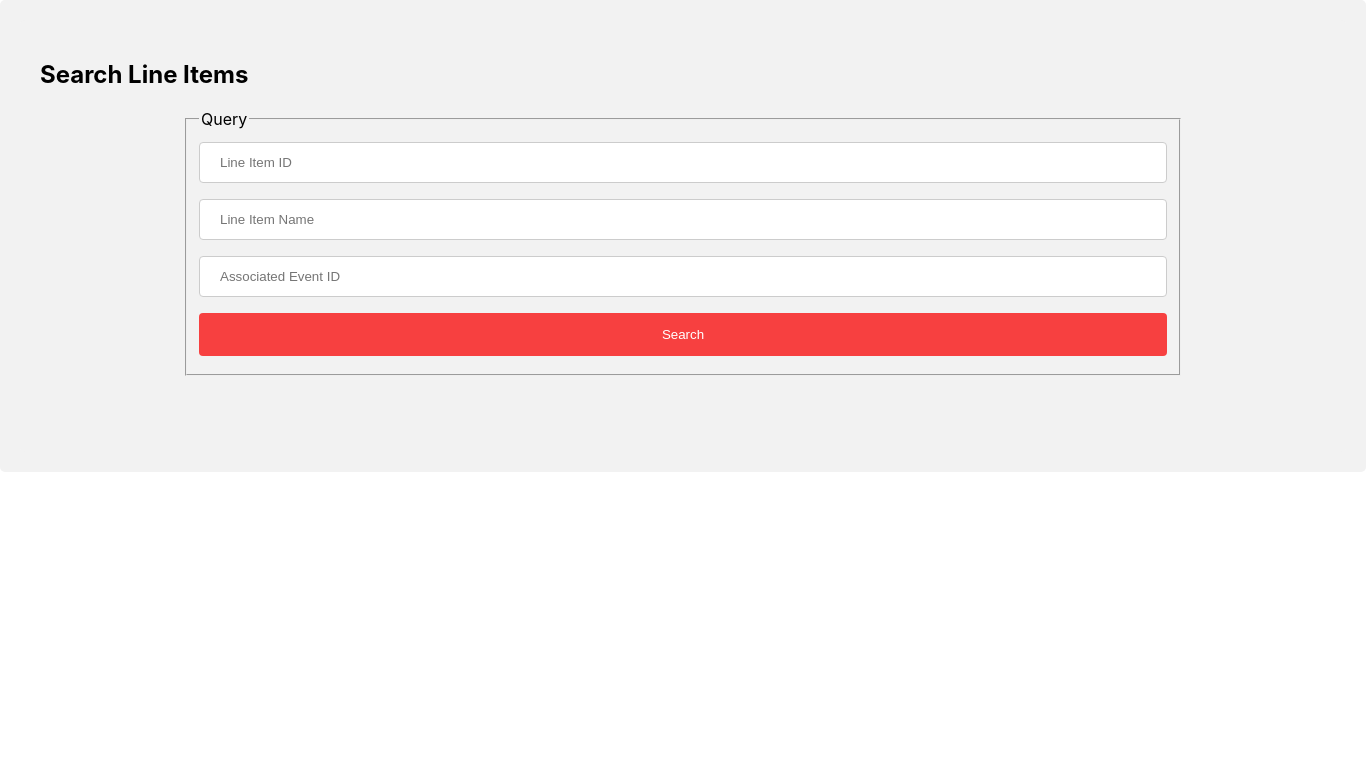
it: successfully finds line item by event
Type "uniqueId" into the field with placeholder "Associated Event ID" at (683, 277), box [199, 256, 1167, 297]
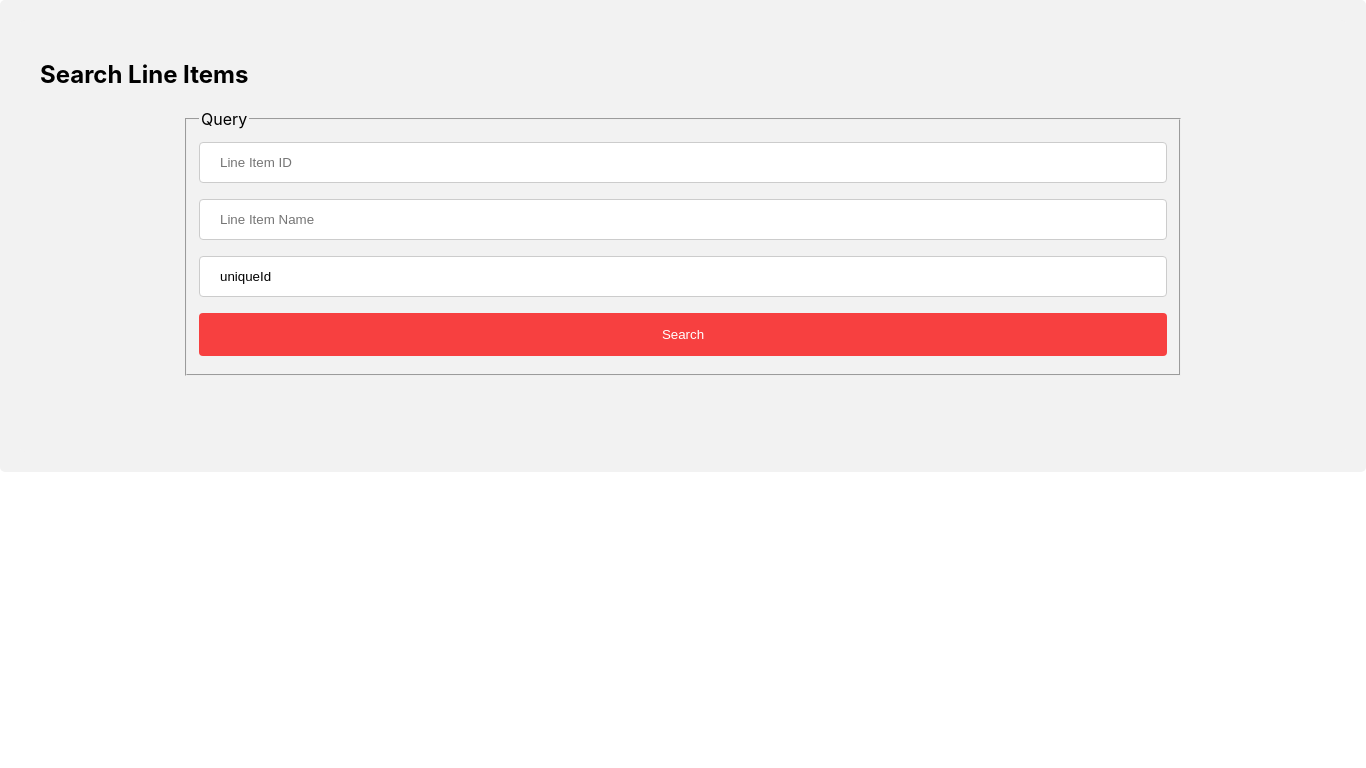
Click the button at (683, 335), box [199, 313, 1167, 356]
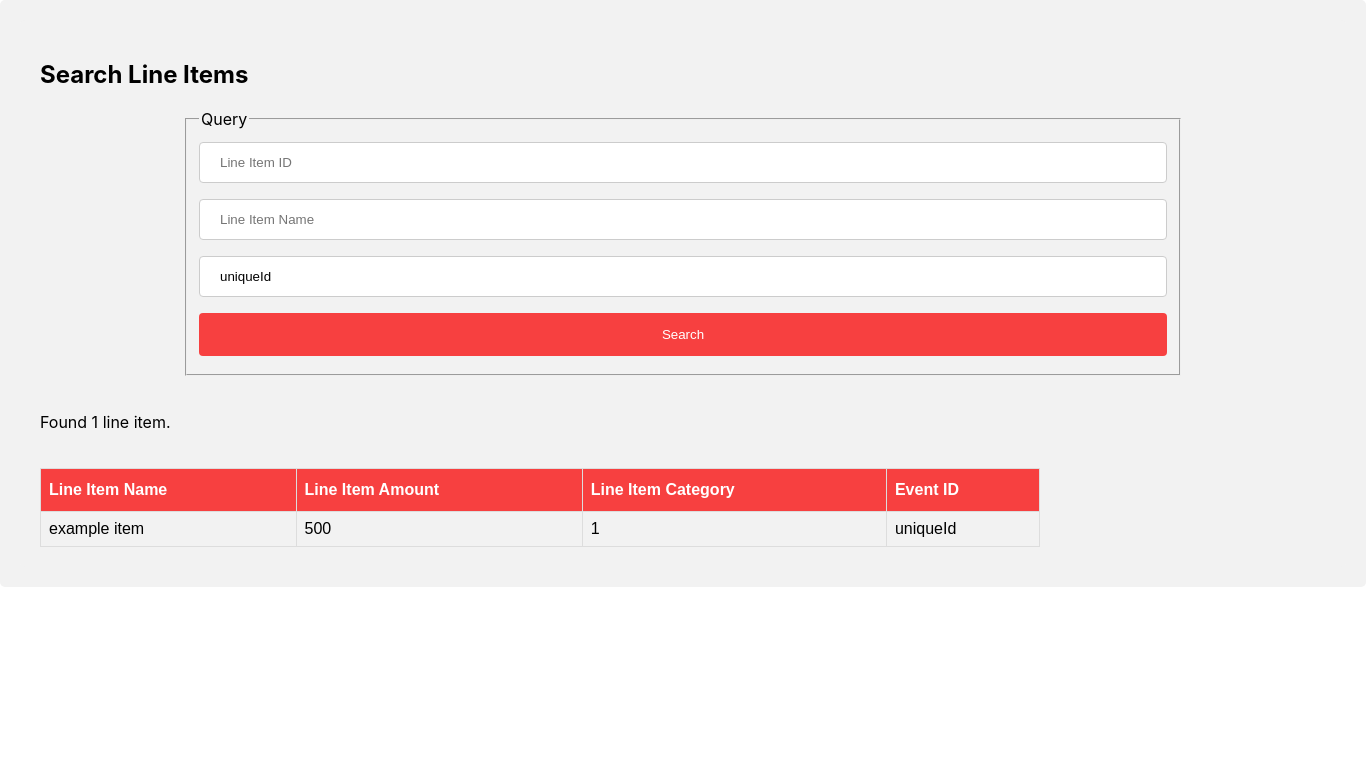
Check: the number of cells is 4, box [40, 512, 296, 547]; [296, 512, 582, 547]; [582, 512, 886, 547]; [886, 512, 1040, 547]
Check: the number of rows is 2, box [40, 469, 1040, 512]; [40, 512, 1040, 547]
Check: the cell "example item" is shown, box [40, 512, 296, 547]
